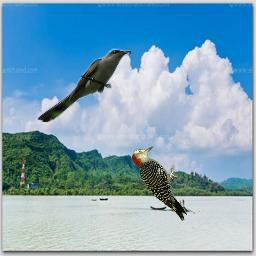Cuckoo: (37, 48, 131, 122)
Woodpecker: (130, 146, 188, 221)
